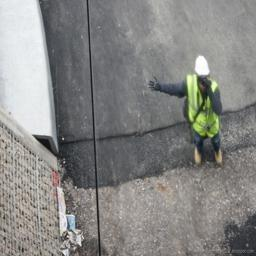hat: (192, 55, 210, 78)
low quality vest: (181, 76, 225, 137)
